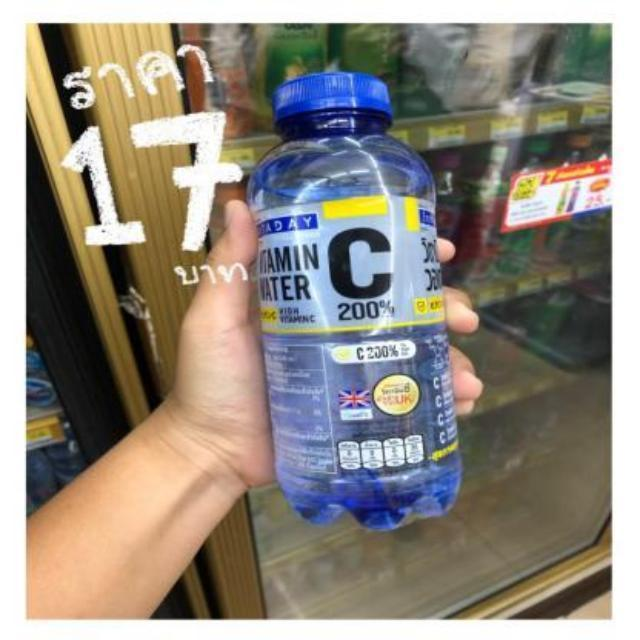plastic_bottle: (246, 72, 464, 530)
